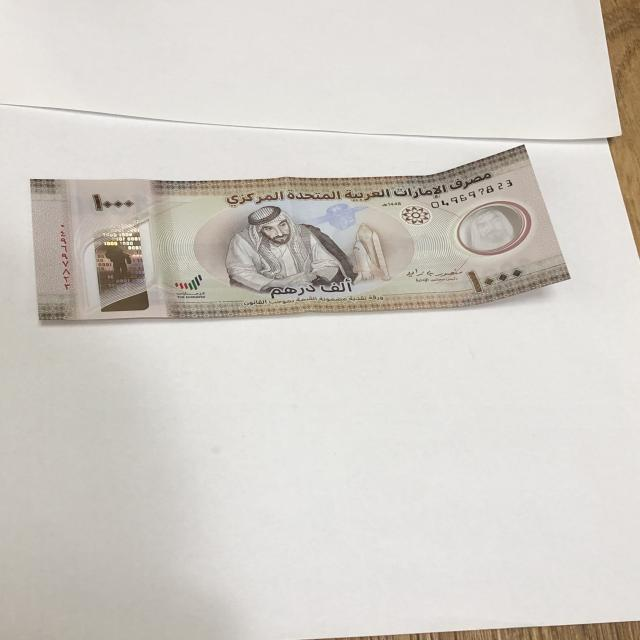1000_AED: (29, 142, 571, 326)
